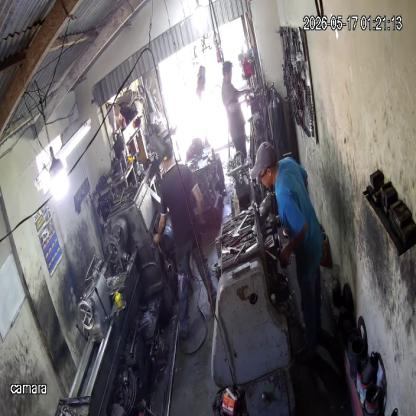lentes: (257, 165, 269, 181)
